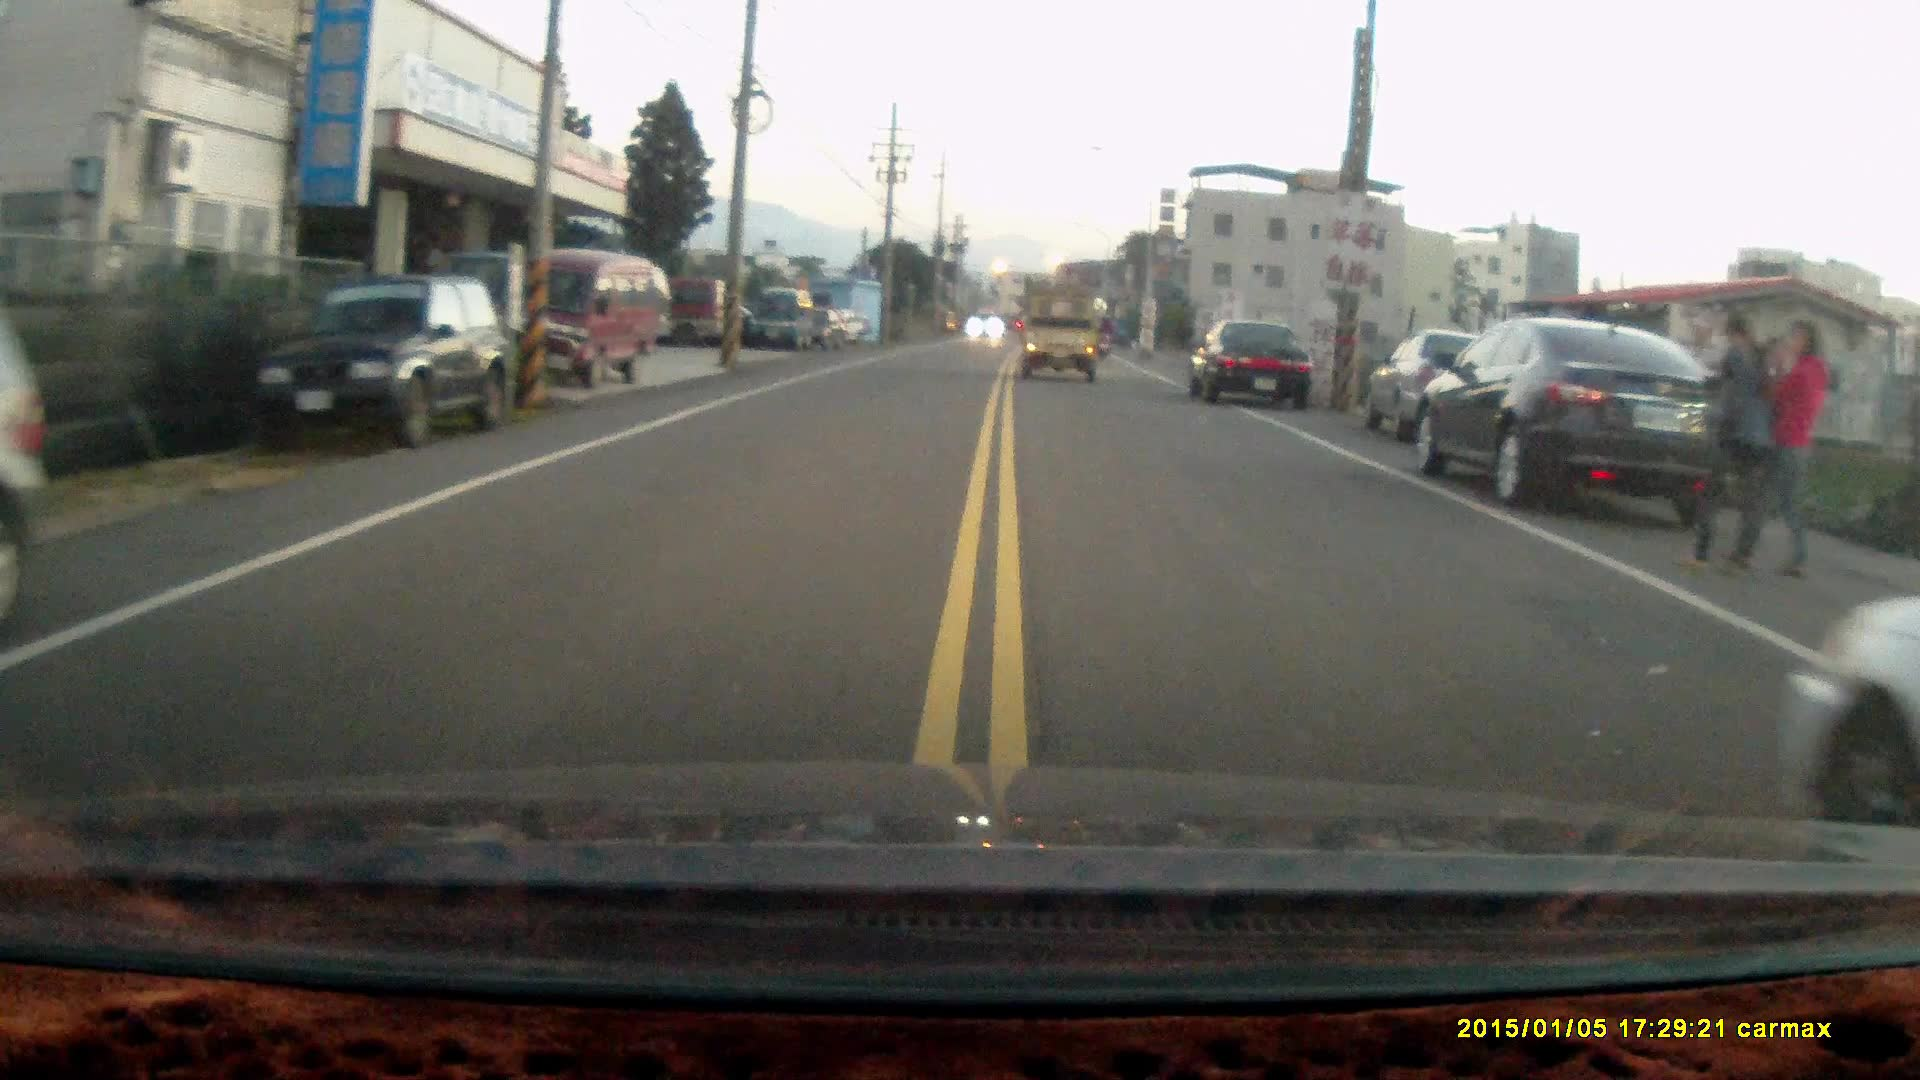pedestrian: (1682, 310, 1774, 575), (1752, 315, 1827, 575)
vehicle: (1411, 317, 1764, 521), (260, 268, 512, 452), (1785, 599, 1920, 855), (492, 249, 672, 383), (5, 300, 53, 636), (1362, 329, 1504, 439), (1185, 311, 1315, 407), (1021, 291, 1104, 381), (745, 285, 818, 350)
